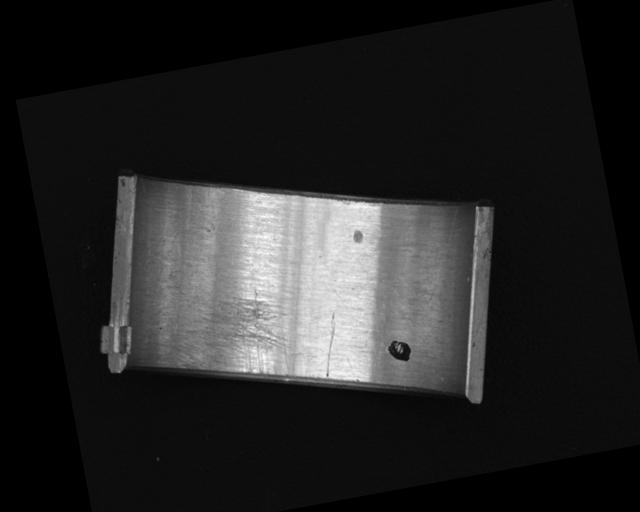blot: (385, 338, 413, 365)
bruise: (351, 228, 365, 245)
nick: (409, 205, 473, 303), (314, 311, 347, 377)
scratch: (167, 284, 296, 396)
